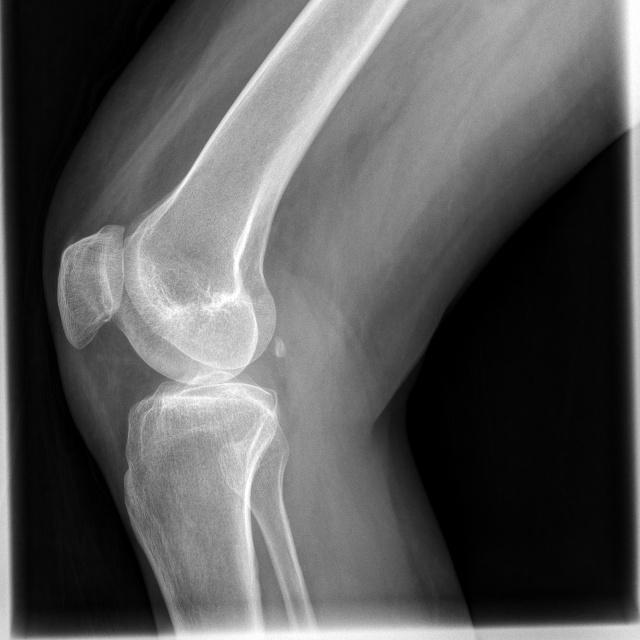Knee: (51, 223, 280, 498)
